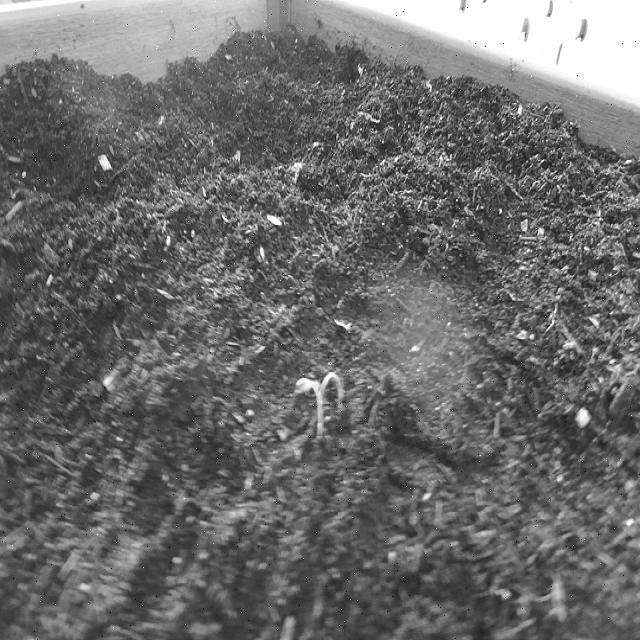Healthy: (289, 360, 350, 452)
